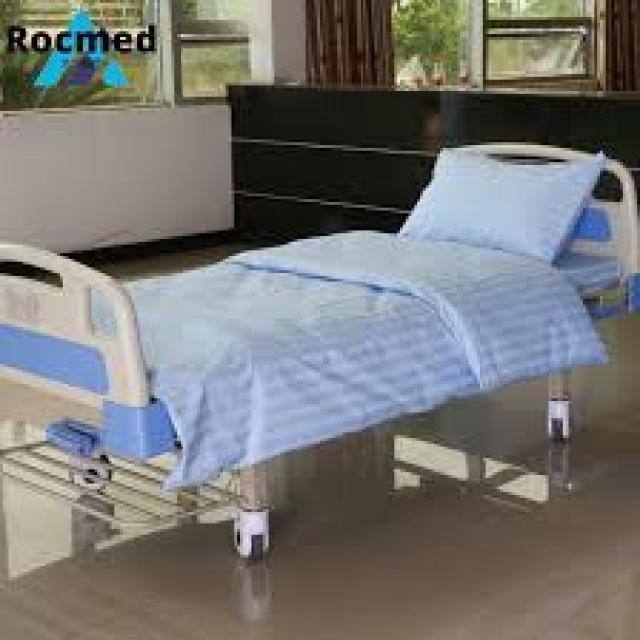bed: (0, 140, 637, 580)
